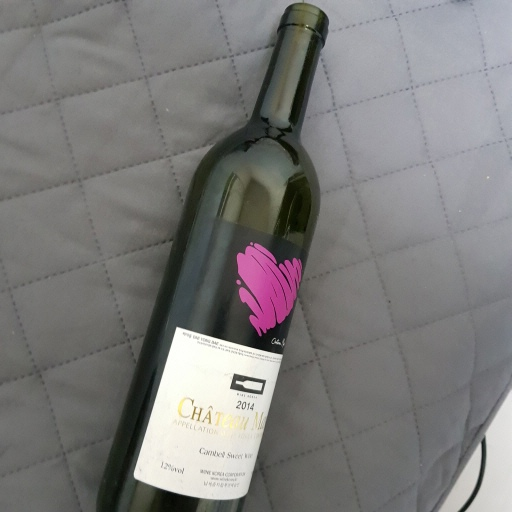Glass_2: (97, 3, 336, 512)
